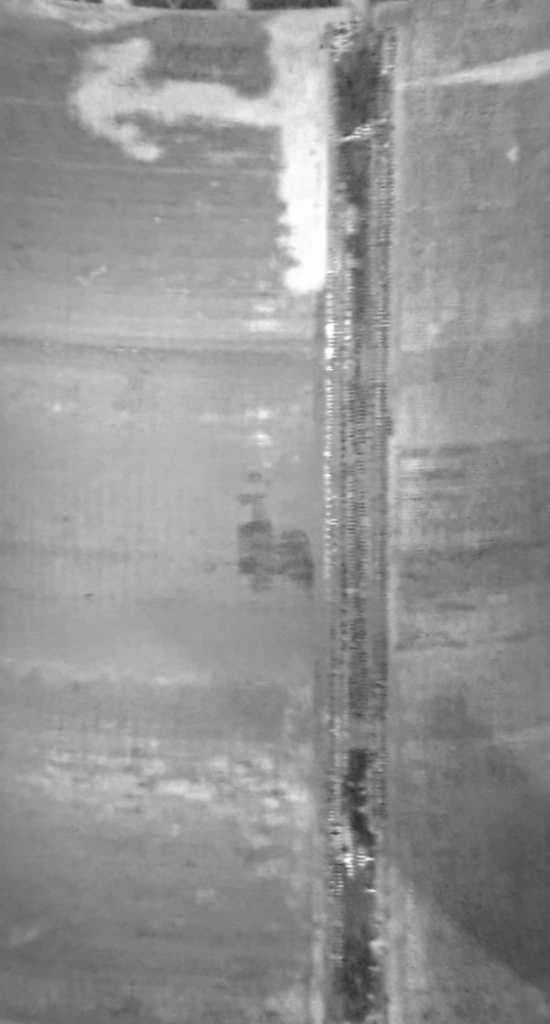splice: (300, 3, 397, 1024)
